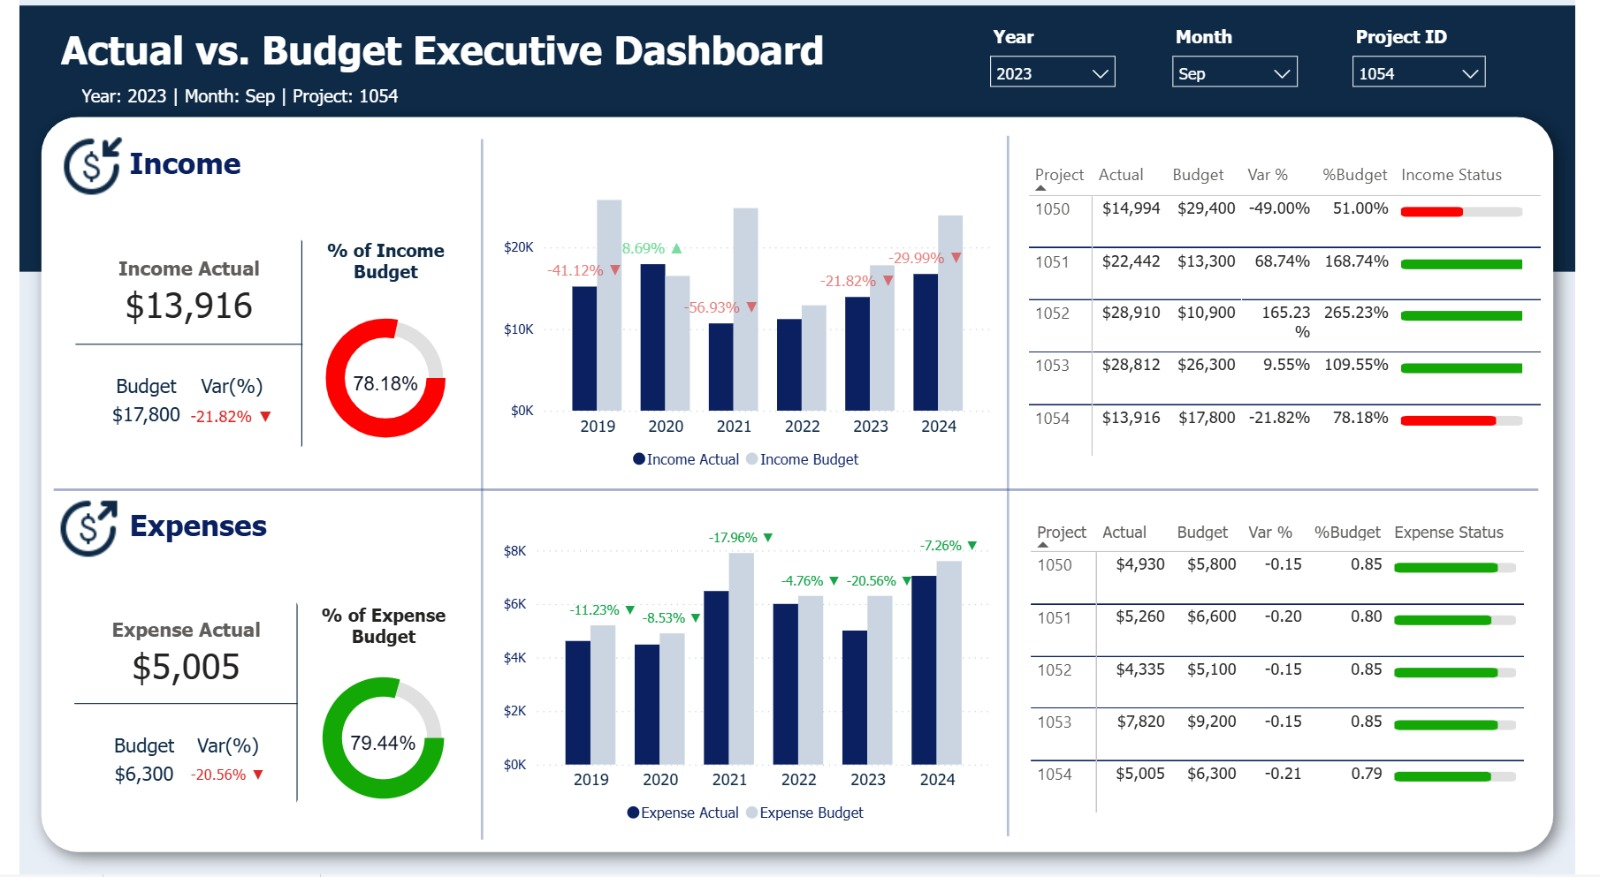

The dashboard page shown, as its layout file describes it:
{"tool":"powerbi","page":{"name":"Page 1","canvas":[1280,720],"ordinal":0},"visuals":[{"type":"shape","box":[0,0,1280.3,720.2],"z":0},{"type":"shape","box":[0,4.5,1280.6,219.4],"z":1000},{"type":"shape","box":[0,78.6,1280,641.4],"z":2000},{"type":"slicer","fields":{"Values":["PMP.Project_ID"]},"box":[1086.7,16.7,130,73.3],"z":3000},{"type":"slicer","fields":{"Values":["PMP.Month Name"]},"box":[938.3,16.7,123.3,73.3],"z":4000},{"type":"shape","box":[28.6,211.4,1221.4,382.9],"z":5000},{"type":"cardVisual","fields":{"Data":["Key Measures.Income Actual"]},"box":[31.4,178.6,218.9,208.6],"z":6000},{"type":"cardVisual","fields":{"Data":["Key Measures.Expense Actual"]},"box":[28.6,478.6,218.4,201.2],"z":7000},{"type":"shape","box":[705.7,111.4,215.7,577.1],"z":8000},{"type":"cardVisual","title":"% of Expense Budget","fields":{"Data":["Key Measures.% of Expense Budget"]},"box":[234.7,497.6,130.1,182.2],"z":9000},{"type":"shape","box":[272.9,114.3,215.7,577.1],"z":10000},{"type":"slicer","fields":{"Values":["PMP.Year"]},"box":[788.1,16.4,123.9,73.1],"z":11000},{"type":"cardVisual","title":"% of Income Budget","fields":{"Data":["Key Measures.% of Income Budget"]},"box":[237.6,196.9,128.1,190.3],"z":12000},{"type":"clusteredColumnChart","fields":{"Y":["Key Measures.Income Actual","Key Measures.Income Budget"],"Category":["PMP.Year"]},"box":[393.3,126.7,411.7,270],"z":13000},{"type":"clusteredColumnChart","fields":{"Y":["Key Measures.Expense Actual","Key Measures.Expense Budget"],"Category":["PMP.Year"]},"box":[393.3,420,411.1,267.8],"z":14000},{"type":"textbox","box":[85.7,114.3,112.9,45.7],"z":15000,"group":"g1"},{"type":"pivotTable","fields":{"Rows":["PMP.Project_ID"],"Values":["Key Measures.Income Actual","Key Measures.Income Budget","Key Measures.Income Variance %","Key Measures.% of Income Budget","Key Measures.Income Bar Chart"]},"box":[825.7,127.1,434.3,255.7],"z":15000},{"type":"textbox","box":[85.7,412.9,137.1,45.7],"z":16000,"group":"g2"},{"type":"pivotTable","fields":{"Rows":["PMP.Project_ID"],"Values":["Key Measures.Expense Actual","Key Measures.Expense Budget","Key Measures.Expense Variance %","Key Measures.% of Expense Budget","Key Measures.Expense Bar Chart"]},"box":[827.1,422.9,432.9,254.3],"z":16000},{"type":"textbox","box":[28.8,16.2,696.2,51.2],"z":17000},{"type":"cardVisual","fields":{"Data":["Key Measures.Dynamic Header"]},"box":[28.8,53.8,626.2,48.8],"z":18000},{"type":"image","box":[31.5,90,57.1,94.3],"z":18000,"group":"g1"},{"type":"group","id":"g1","title":"Group 2","box":[28.6,90,194.3,392.9],"z":19000},{"type":"image","box":[28.6,388.6,57.1,94.3],"z":19000,"group":"g2"},{"type":"group","id":"g2","title":"Group 1","box":[28.6,388.6,194.3,94.3],"z":19002,"group":"g1"}]}

Visuals, with their boxes in screenshot pixels (x1, y1, x2, y2), scaled from the page's 1280x720 canvas onto the 1600x877 screenshot:
shape: [0,0,1599,876]
shape: [0,5,1599,273]
shape: [0,96,1599,876]
slicer - PMP.Project_ID: [1358,20,1521,110]
slicer - PMP.Month Name: [1173,20,1327,110]
shape: [36,257,1562,724]
cardVisual - Key Measures.Income Actual: [39,218,313,472]
cardVisual - Key Measures.Expense Actual: [36,583,309,828]
shape: [882,136,1152,839]
"% of Expense Budget" cardVisual: [293,606,456,828]
shape: [341,139,611,842]
slicer - PMP.Year: [985,20,1140,109]
"% of Income Budget" cardVisual: [297,240,457,472]
clusteredColumnChart - Key Measures.Income Actual x Key Measures.Income Budget: [492,154,1006,483]
clusteredColumnChart - Key Measures.Expense Actual x Key Measures.Expense Budget: [492,512,1006,838]
textbox: [107,139,248,195]
pivotTable - PMP.Project_ID x Key Measures.Income Actual: [1032,155,1575,466]
textbox: [107,503,278,559]
pivotTable - PMP.Project_ID x Key Measures.Expense Actual: [1034,515,1575,825]
textbox: [36,20,906,82]
cardVisual - Key Measures.Dynamic Header: [36,66,819,125]
image: [39,110,111,224]
"Group 2" group: [36,110,279,588]
image: [36,473,107,588]
"Group 1" group: [36,473,279,588]
